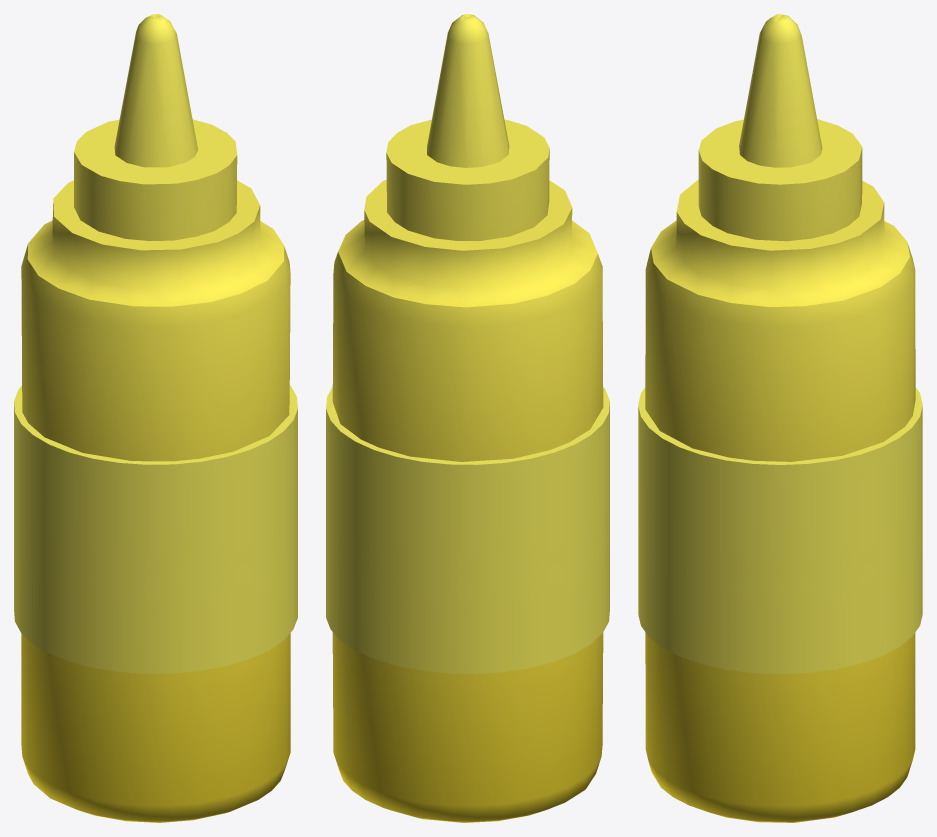
Rendered from dressing_mayo.fbx.
3 views of the same model, side by side, from view 1: azimuth 30°, elevation 25°; view 2: azimuth 150°, elevation 25°; view 3: azimuth 270°, elevation 25° (orthographic).
Parts seen in each view (by area): view 1: dressing_mayo; view 2: dressing_mayo; view 3: dressing_mayo.
Boxes of the visible parts, bbox=[...] form: dressing_mayo: bbox=[14, 14, 297, 822]; dressing_mayo: bbox=[326, 14, 609, 822]; dressing_mayo: bbox=[638, 14, 922, 822].
Bounding box in the file's own units: 51.22 × 151 × 51.22.
